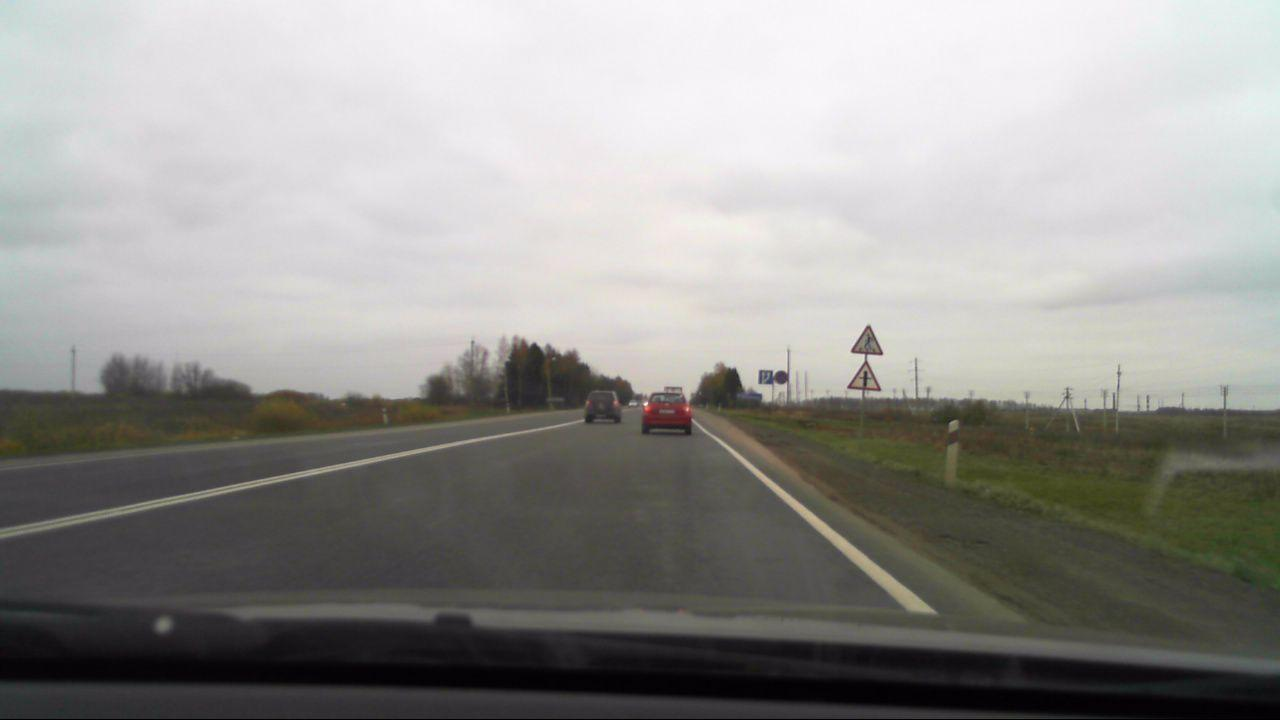1_22: (850, 321, 884, 355)
2_3_1: (847, 359, 885, 393)
3_27: (774, 369, 788, 385)
5_15_3: (758, 369, 774, 385)
